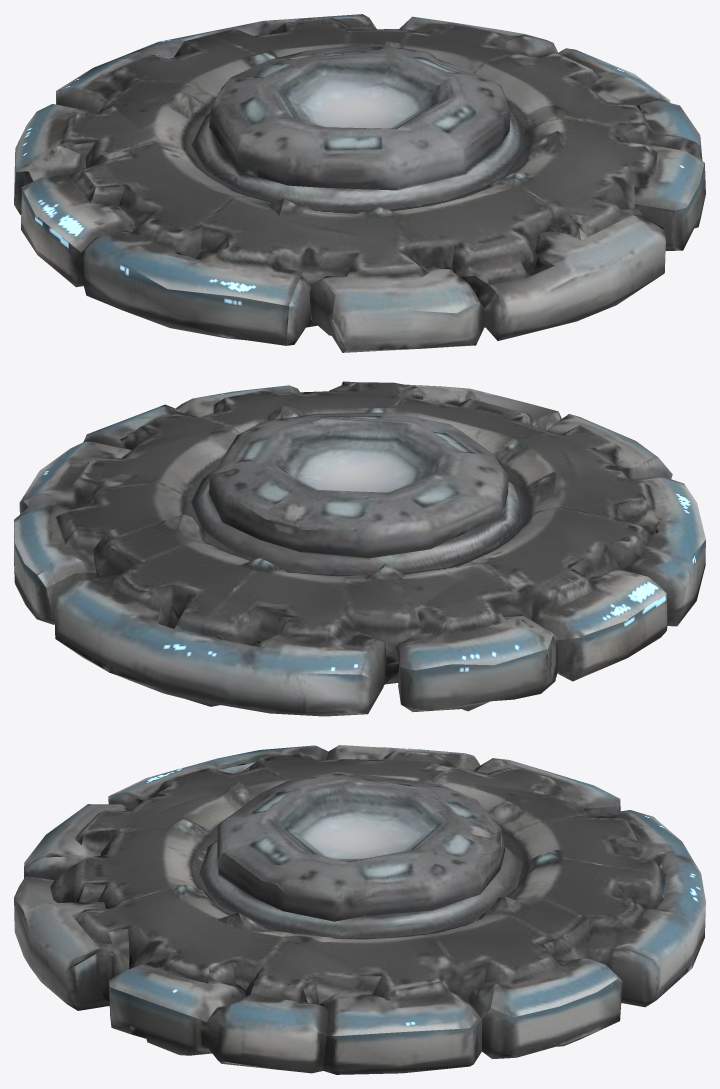
3 views of the same model, one above another, from view 1: azimuth 30°, elevation 25°; view 2: azimuth 150°, elevation 25°; view 3: azimuth 270°, elevation 25° (orthographic).
Visible parts, largest first — view 1: body; view 2: body; view 3: body.
Boxes of the visible parts, x1,y1,x2,y2 form: body: (14,14,705,352); body: (14,381,705,716); body: (14,745,705,1074).
Bounding box in the file's own units: 0.5097 × 0.1538 × 0.5175.
1 material, 1 textured.
